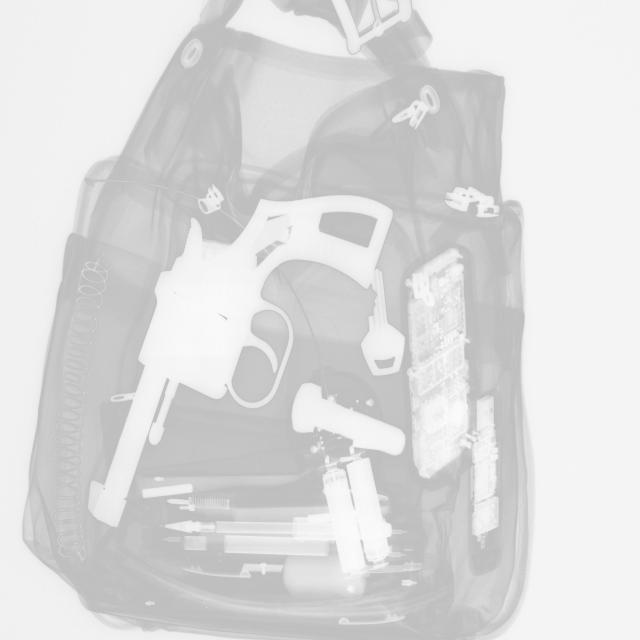pistol: (88, 193, 394, 529)
